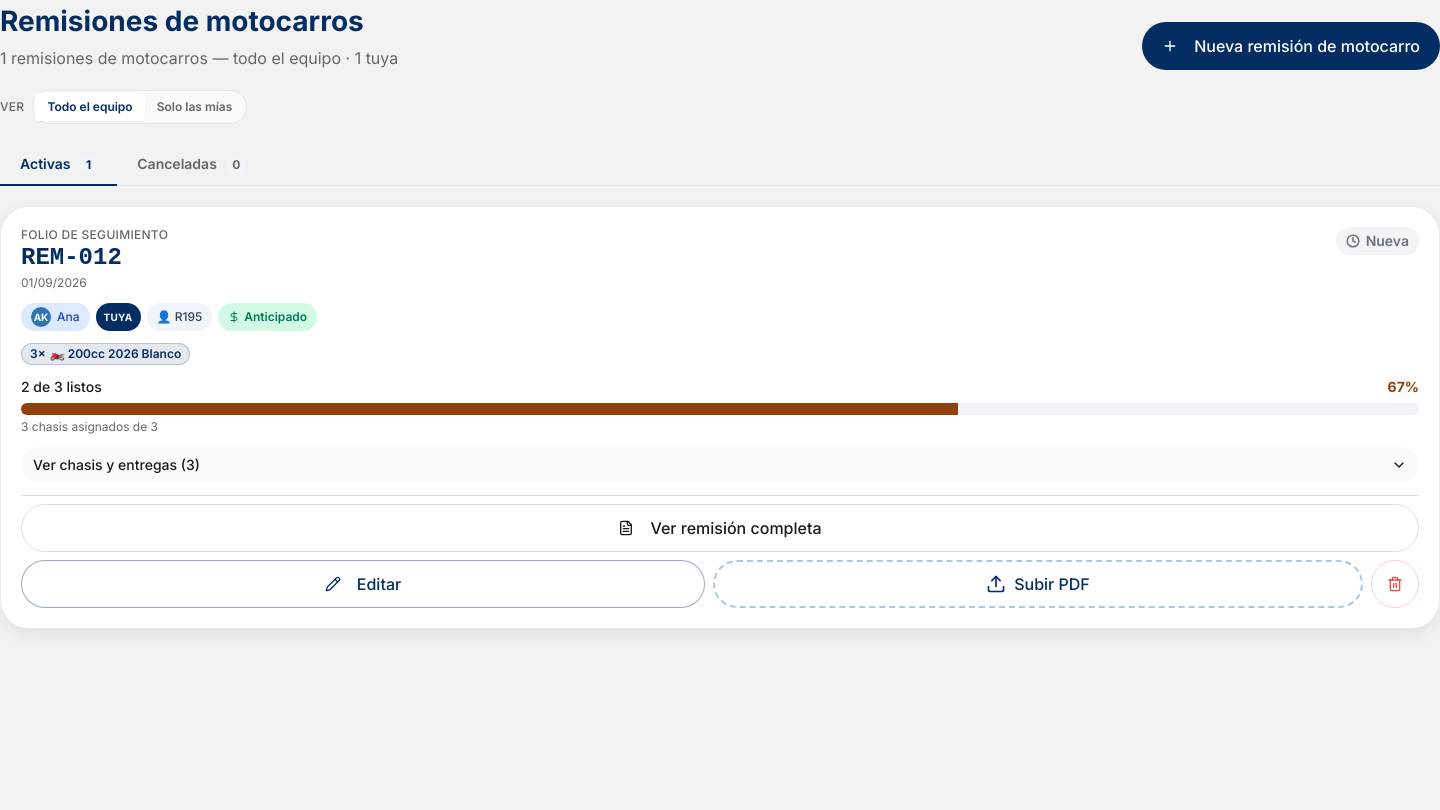
Test: Remisiones · bajar una remisión con chasis asignados › lo que ya salió del almacén no se puede ni pidiendo
Click the button "Editar": (363, 584) 21,560 -> 705,608
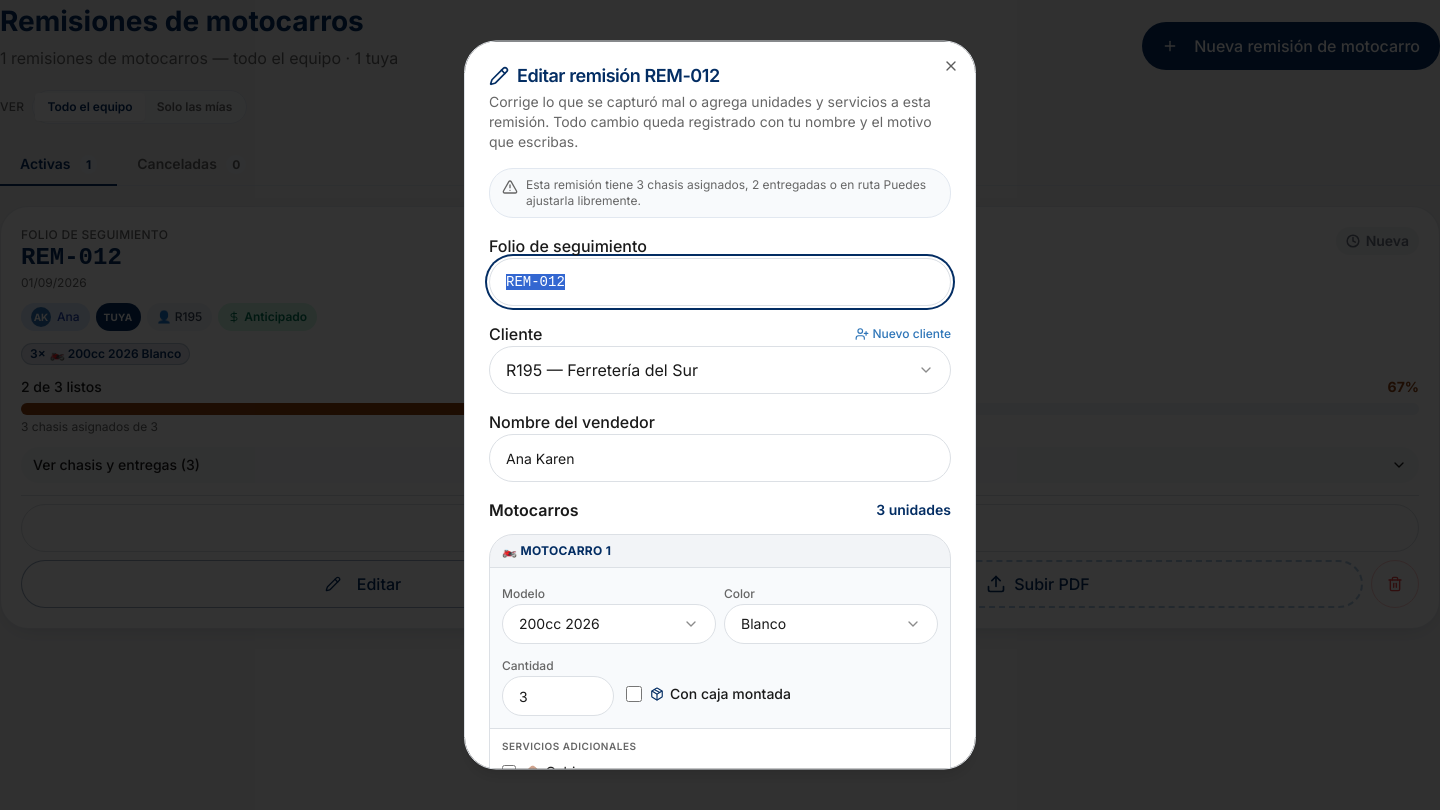
Replace the text in the number field with "0": (558, 696) 502,676 -> 614,716
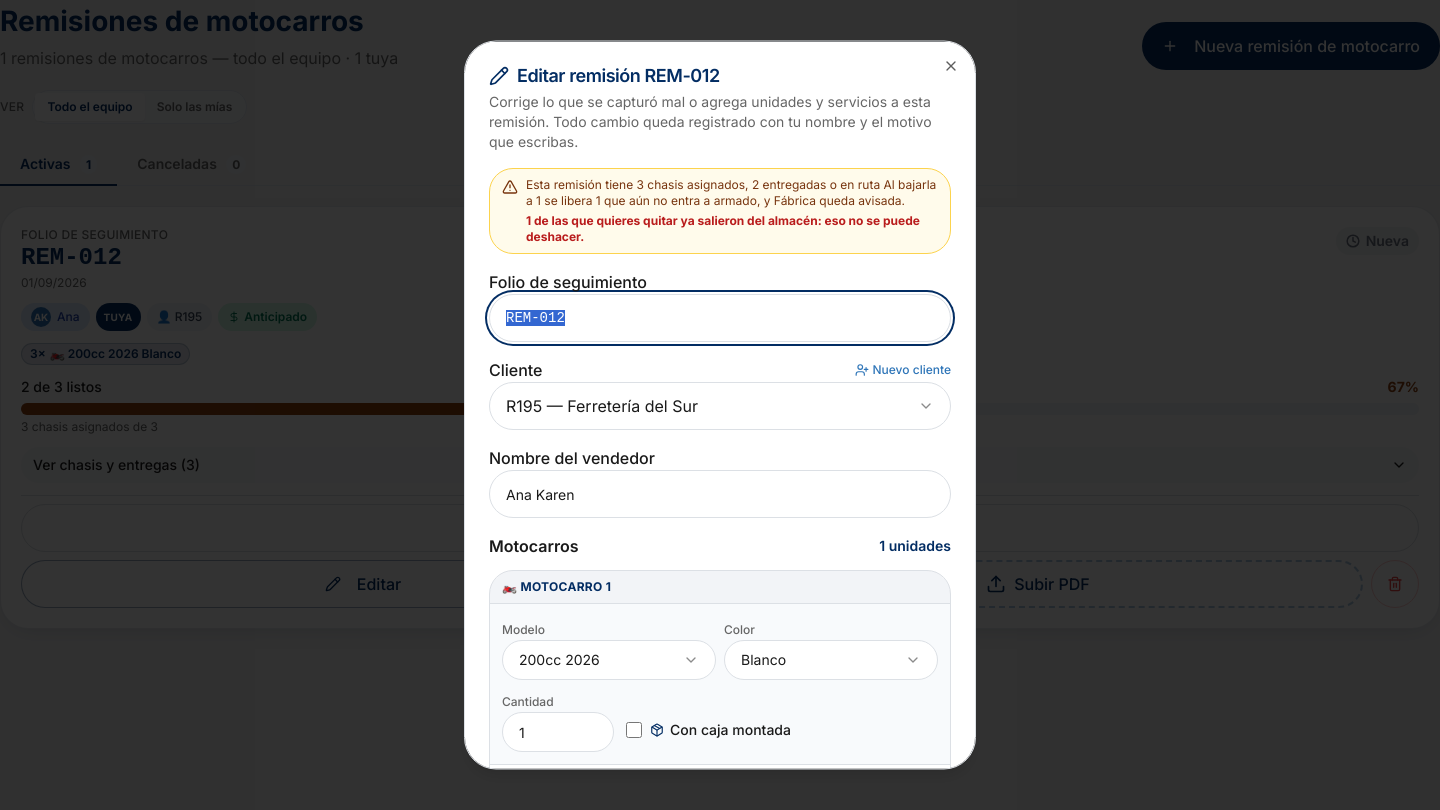
Result: the text "ya salieron del almacén" is shown at 526,212 -> 920,244
